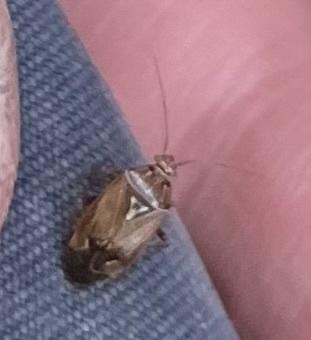plant_bugs: (35, 43, 273, 316)
